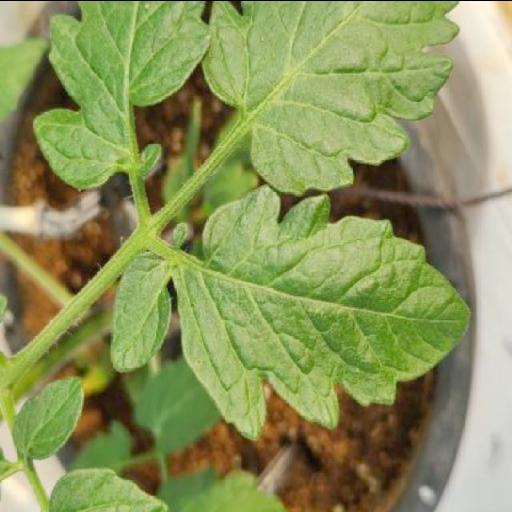Healthy: (178, 185, 468, 440), (204, 1, 460, 193), (112, 248, 170, 371), (12, 376, 86, 460)
